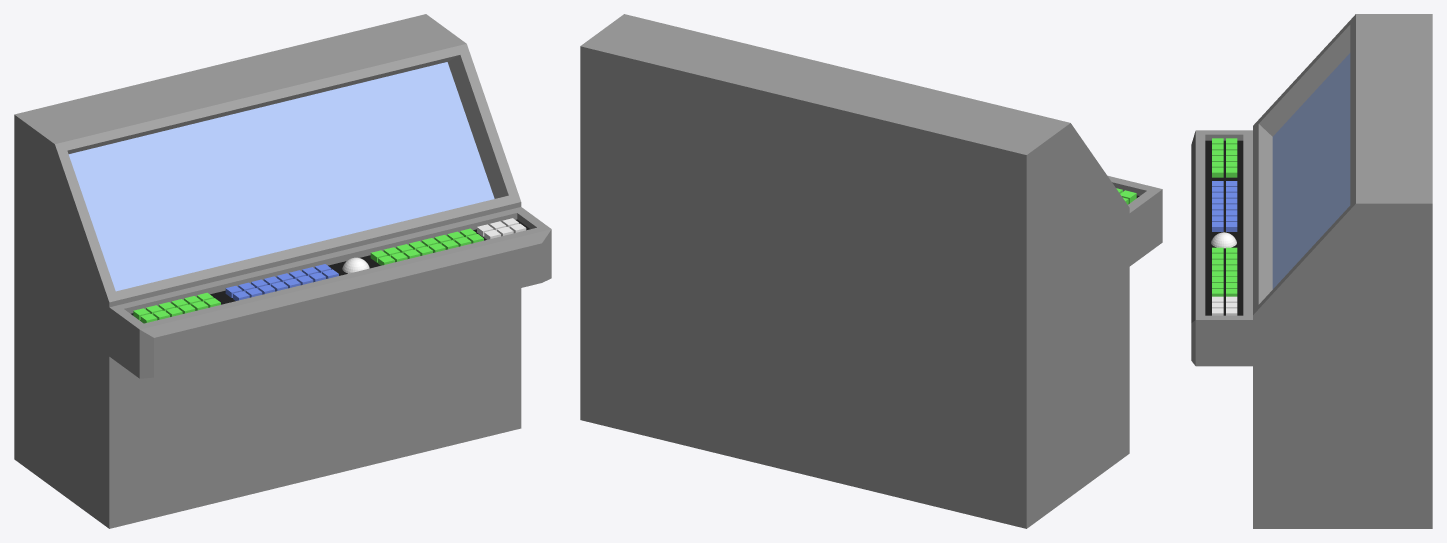
File: map-client-01.fbx
3 views of the same model, side by side, from view 1: azimuth 30°, elevation 25°; view 2: azimuth 150°, elevation 25°; view 3: azimuth 270°, elevation 25° (orthographic). The views are drawn at different scales.
Visible parts, largest first — view 1: Cube.001, Cube, Cube.003, Cube.004, Cube.002, Cube.005; view 2: Cube.001, Cube; view 3: Cube.001, Cube, Cube.003, Cube.004, Cube.002, Cube.005, Sphere.
Part boxes in pixels (box(x1,y1,x2,y2)): Cube.001: box(14, 14, 551, 378); Cube: box(14, 287, 521, 528); Cube.003: box(225, 264, 338, 300); Cube.004: box(370, 228, 483, 265); Cube.002: box(133, 292, 220, 323); Cube.005: box(477, 218, 526, 239); Cube.001: box(580, 14, 1162, 341); Cube: box(580, 233, 1129, 528); Cube.001: box(1191, 14, 1432, 366); Cube: box(1253, 366, 1432, 528); Cube.003: box(1212, 181, 1237, 231); Cube.004: box(1212, 247, 1237, 296); Cube.002: box(1212, 138, 1237, 177); Cube.005: box(1212, 296, 1237, 315); Sphere: box(1211, 232, 1236, 248).
Size of the model in its own units: 500 by 400 by 269.
